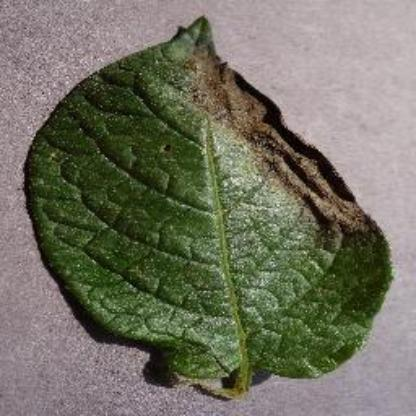Late-Blight: (20, 8, 398, 400)
